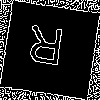R: (24, 25, 66, 75)
